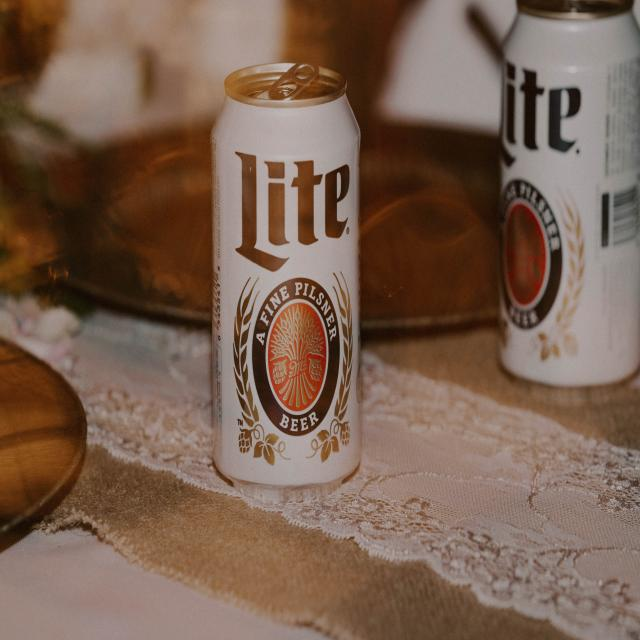can: (210, 60, 361, 504)
